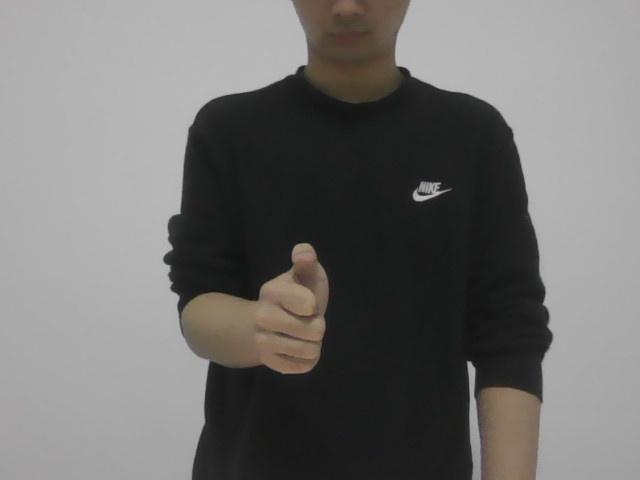thank you: (252, 239, 334, 383)
